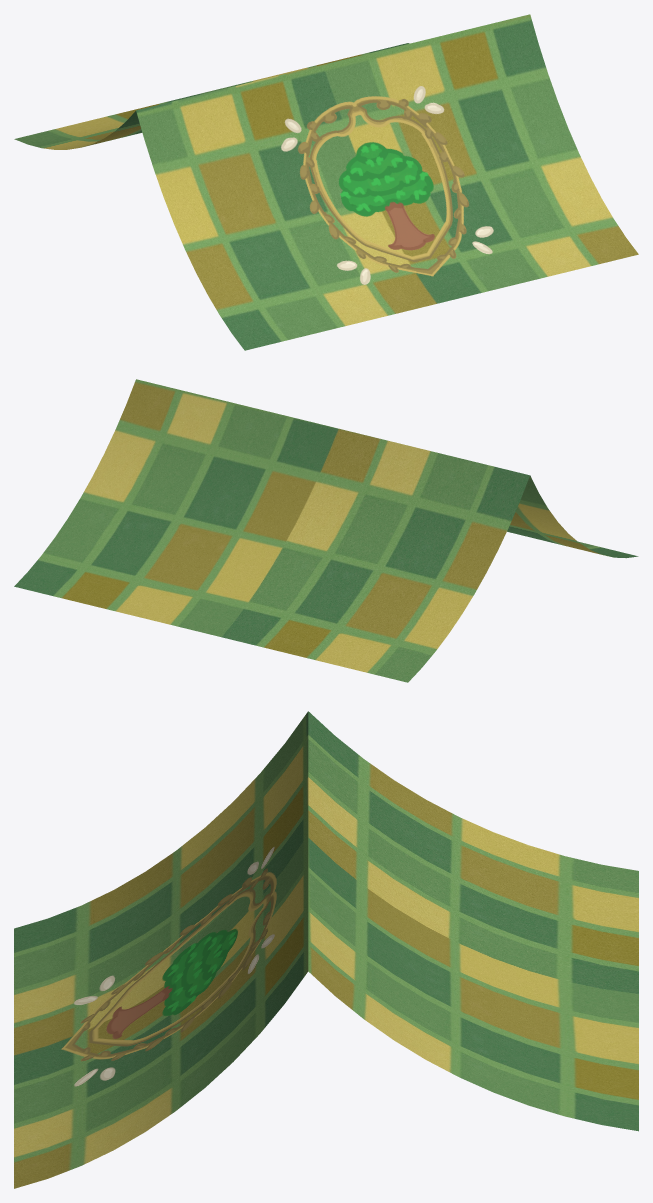
Rendered from awning.fbx.
3 views of the same model, one above another, from view 1: azimuth 30°, elevation 25°; view 2: azimuth 150°, elevation 25°; view 3: azimuth 270°, elevation 25° (orthographic). The views are drawn at different scales.
Visible parts, largest first — view 1: cloth; view 2: cloth; view 3: cloth.
Part boxes in pixels (x1,y1,x2,y2): cloth: (14,14,638,350); cloth: (14,379,638,682); cloth: (14,711,638,1188).
Size of the model in its own units: 7 by 2.73 by 7.1.
Materials: 1 (1 with a texture image).
